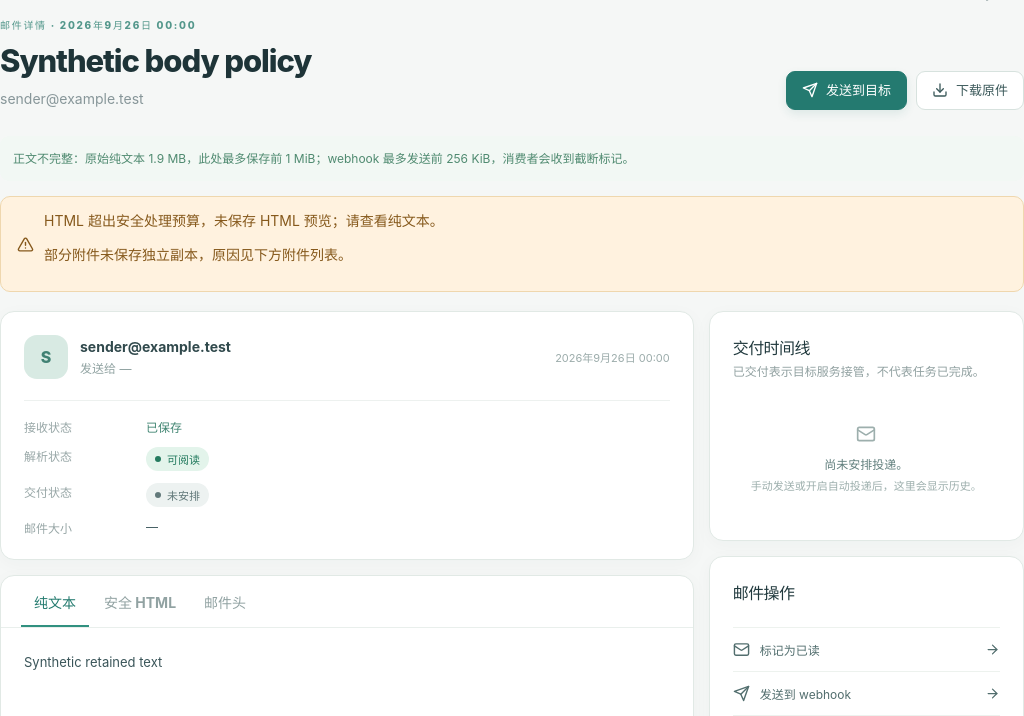
makes incomplete body and omitted attachment visible without a broken download link
Check: the text "Synthetic retained text" is shown, box [24,654,162,670]
Check: the text "正文不完整：原始纯文本" is shown, box [13,151,148,166]
Click the tab "安全 HTML".
click(140, 602)  # box [91,576,189,627]
(page scrolled)
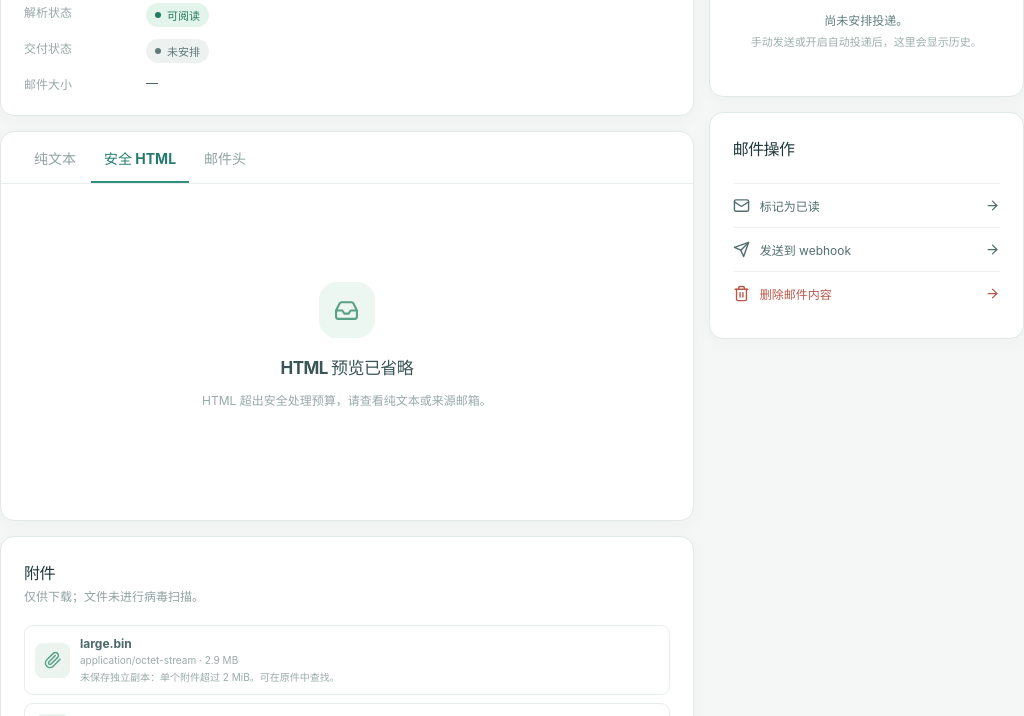
Check: the heading "HTML 预览已省略" is shown, box [280,353,413,384]
